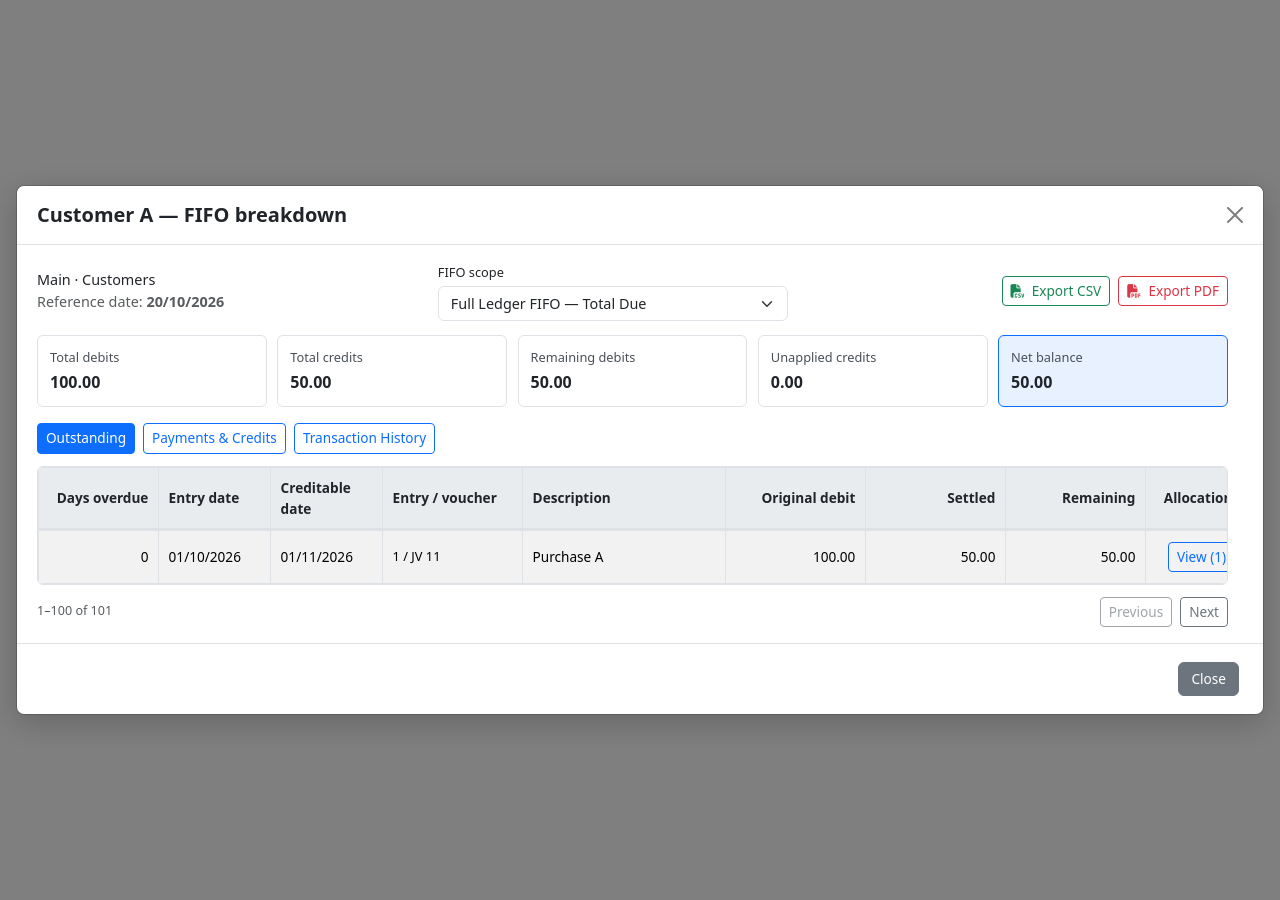
Test: AgingFifoModal › pages server results without recalculating balances locally and warns when ledger changes
This screenshot has width=1280, height=900.
Expected: the text "Purchase A" is shown, [522,530,726,583]
Click the button with aria-label "Next entries" at (1204,612), box [1180,596,1228,627]
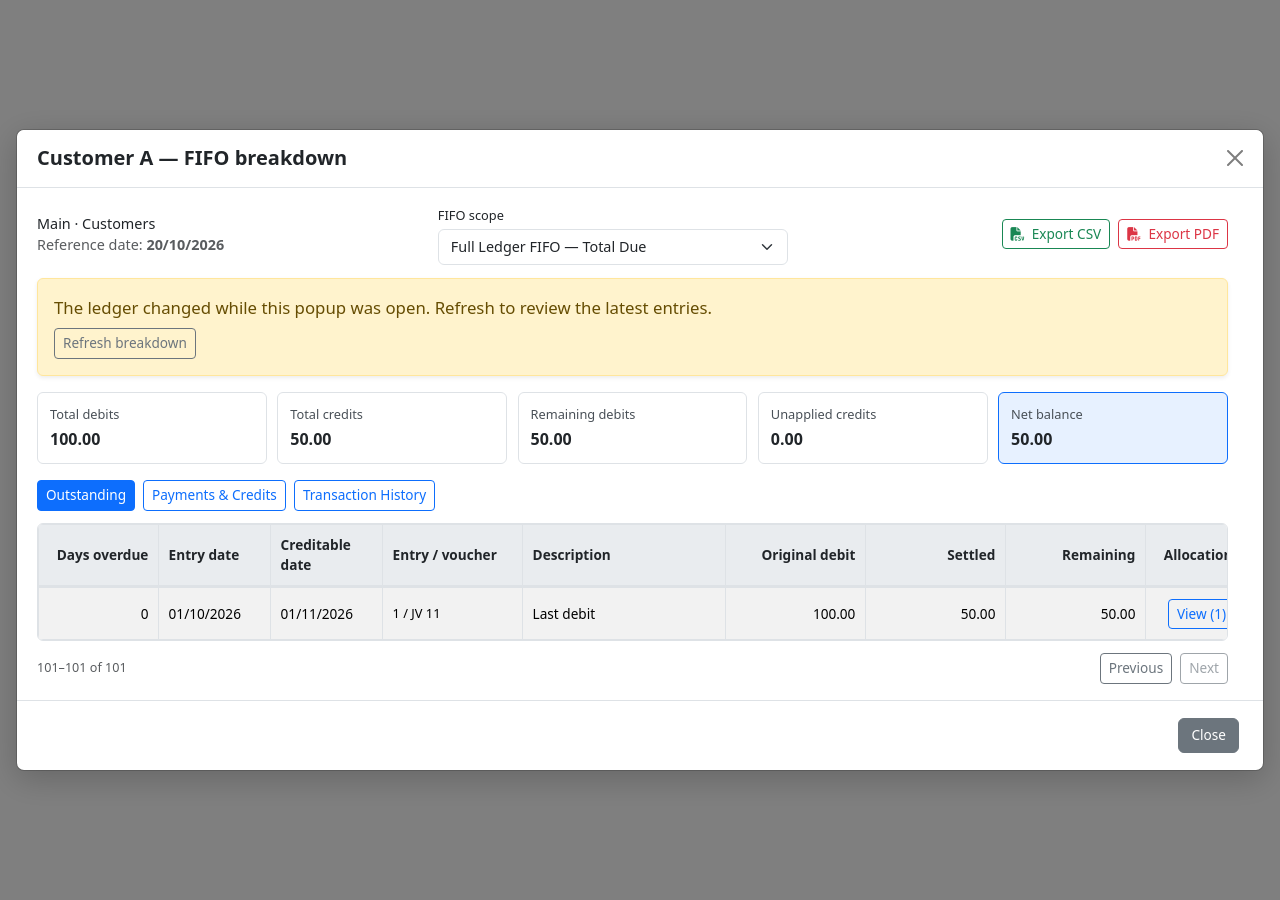
Expected: the text "Last debit" is shown, [522,587,726,640]
Expected: the text "ledger changed while" is shown, [54,296,712,319]
